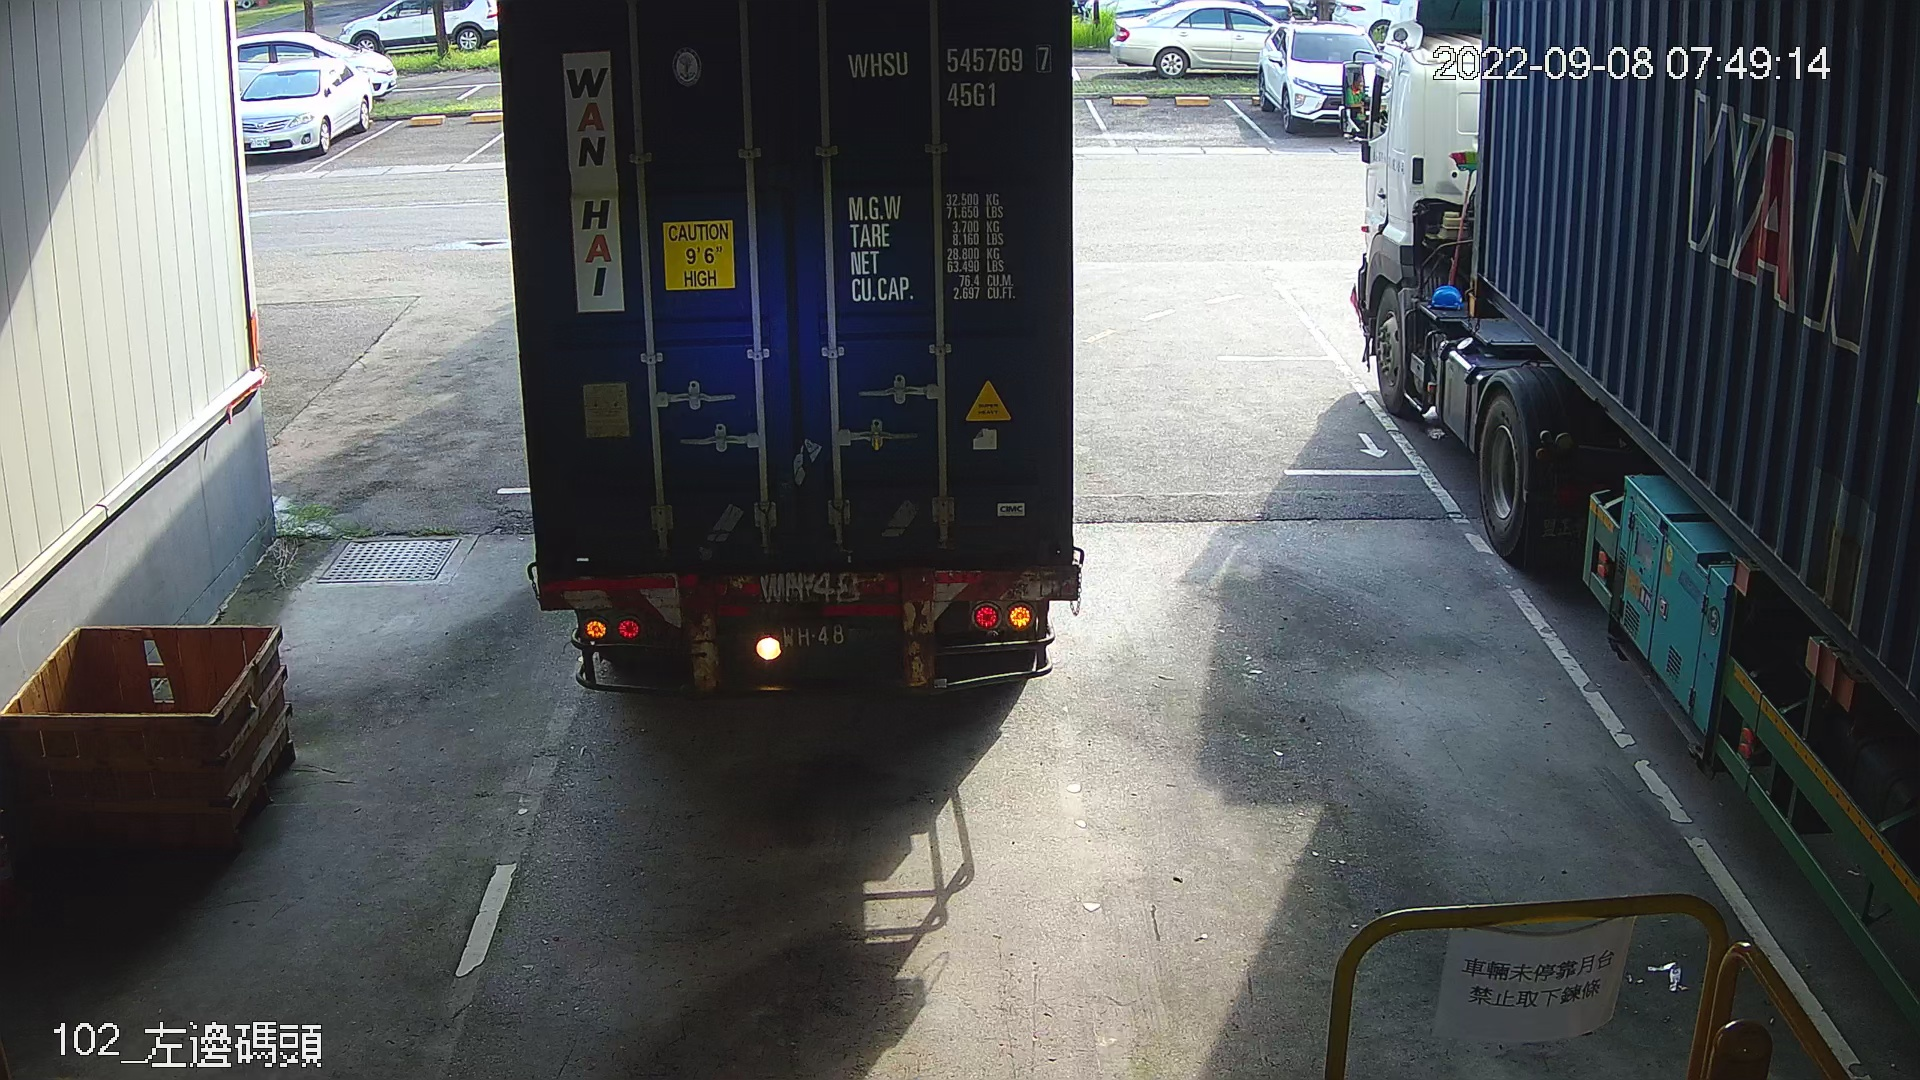container: (839, 36, 1062, 116)
